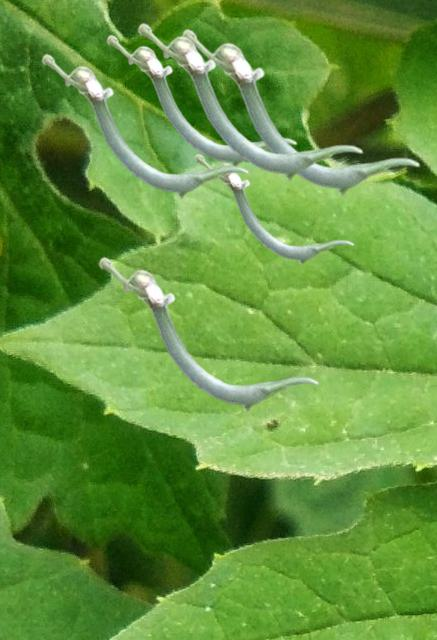french_bean: (181, 28, 419, 195), (137, 22, 362, 180), (98, 256, 318, 411), (41, 53, 248, 198), (106, 34, 296, 164), (194, 153, 353, 264)
